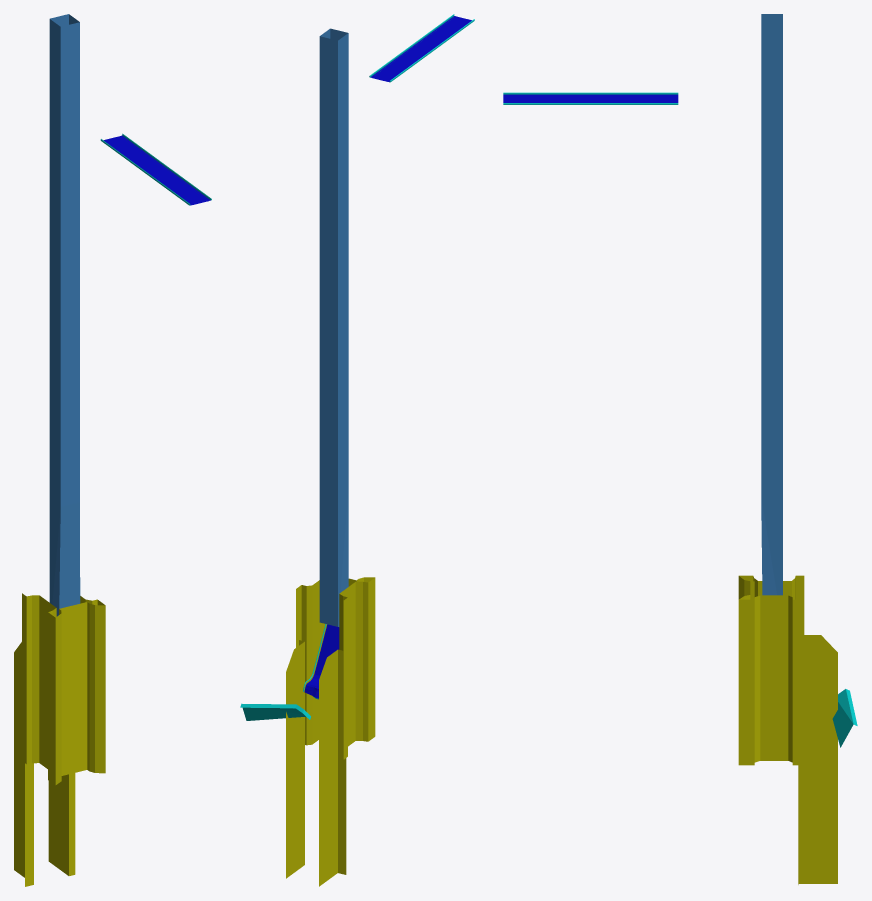
The model's file is STG0100_COLI_01.OBJ.
3 renders of one model, left to right at view 1: azimuth 30°, elevation 25°; view 2: azimuth 150°, elevation 25°; view 3: azimuth 270°, elevation 25°, orthographic. The views are drawn at different scales.
Visible parts, largest first — view 1: STG0100_COLI_01_02020000, STG0100_COLI_01_10000000, STG0100_COLI_01_01000200, STG0100_COLI_01_02000000; view 2: STG0100_COLI_01_02020000, STG0100_COLI_01_10000000, STG0100_COLI_01_01000200, STG0100_COLI_01_02000000; view 3: STG0100_COLI_01_02020000, STG0100_COLI_01_10000000, STG0100_COLI_01_02000000, STG0100_COLI_01_01000200.
Part boxes in pixels (x1=…): STG0100_COLI_01_02020000: x1=14, y1=593, x2=105, y2=886; STG0100_COLI_01_10000000: x1=49, y1=14, x2=80, y2=616; STG0100_COLI_01_01000200: x1=103, y1=135, x2=210, y2=205; STG0100_COLI_01_02000000: x1=100, y1=133, x2=211, y2=205; STG0100_COLI_01_02020000: x1=286, y1=577, x2=375, y2=886; STG0100_COLI_01_10000000: x1=319, y1=28, x2=348, y2=626; STG0100_COLI_01_01000200: x1=304, y1=16, x2=471, y2=698; STG0100_COLI_01_02000000: x1=240, y1=14, x2=474, y2=720; STG0100_COLI_01_02020000: x1=738, y1=575, x2=837, y2=884; STG0100_COLI_01_10000000: x1=761, y1=14, x2=782, y2=595; STG0100_COLI_01_02000000: x1=503, y1=92, x2=857, y2=747; STG0100_COLI_01_01000200: x1=503, y1=94, x2=678, y2=102.
Size of the model in its own units: 653 by 6459 by 2422.
